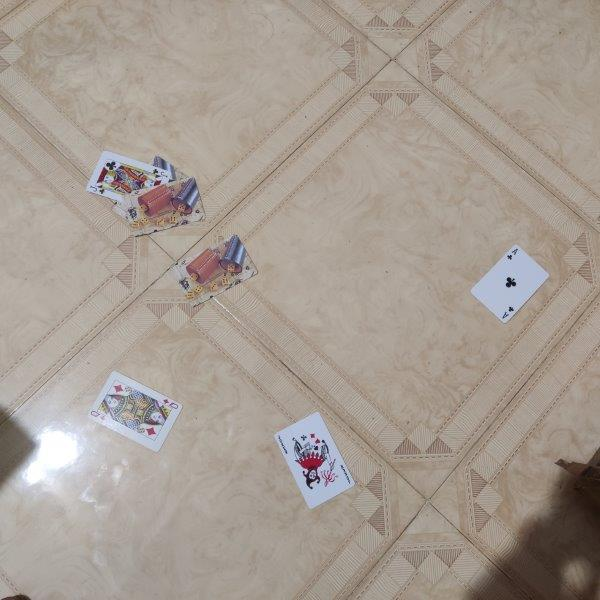Ace of Clubs: (470, 244, 550, 324)
Jack of Clubs: (85, 151, 173, 201)
Joker: (274, 411, 356, 508)
Queen of Diamonds: (88, 371, 183, 452)
